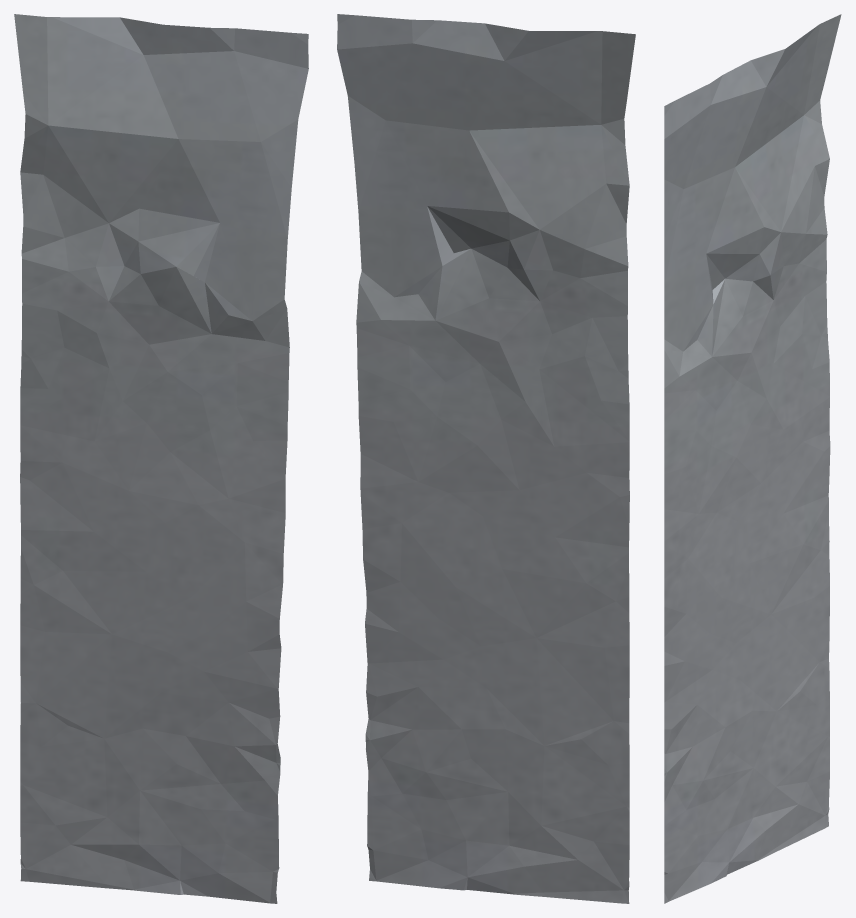
3 renders of one model, left to right at view 1: azimuth 30°, elevation 25°; view 2: azimuth 210°, elevation 25°; view 3: azimuth 270°, elevation 25°, orthographic. The views are drawn at different scales.
Bounding box in the file's own units: 0.2039 × 0.8374 × 0.1656.
Materials: 1 (1 with a texture image).
